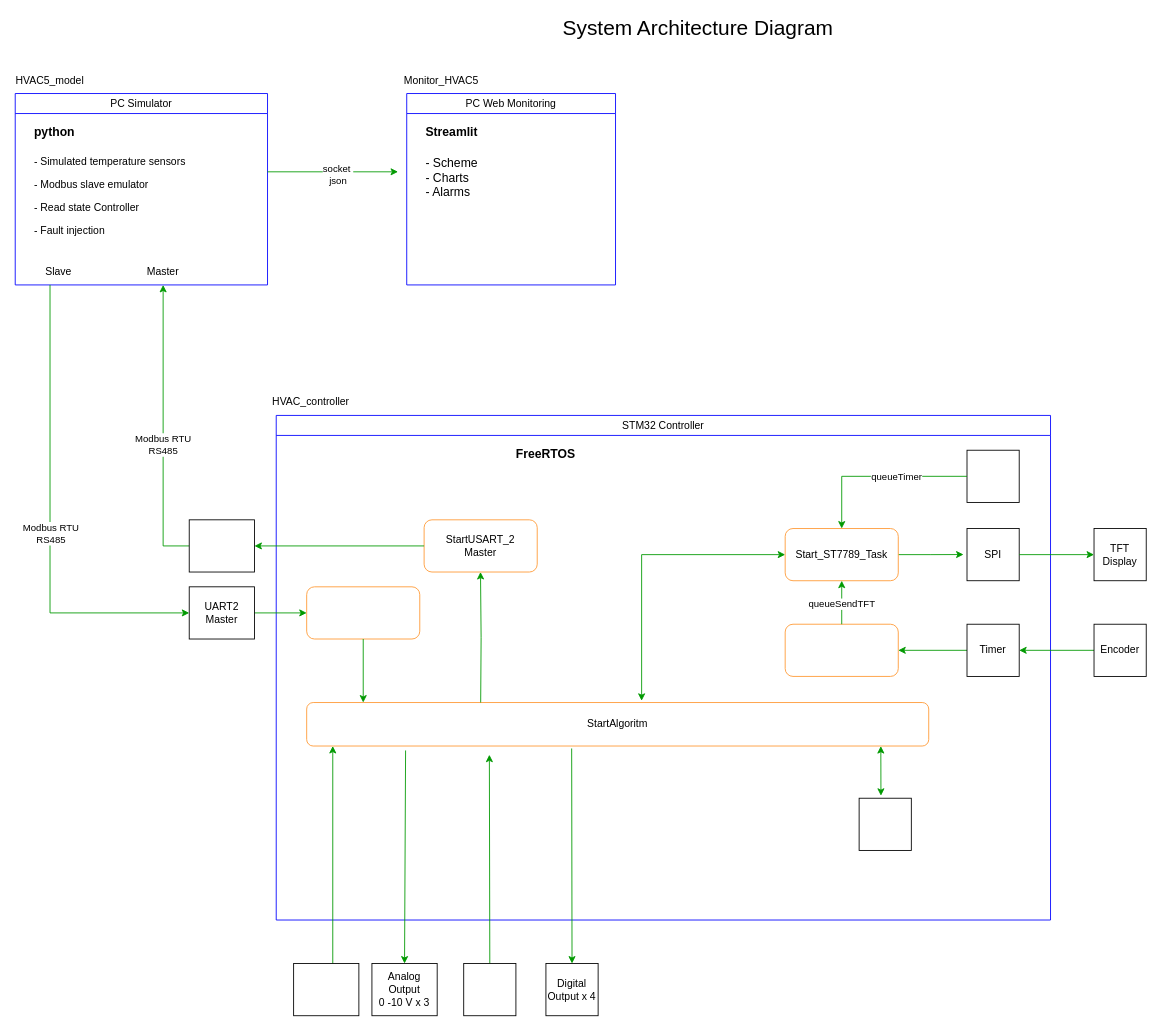
This 1161x1031 diagram has some shape labels left out. The shapes that lost their labels are listed below. From the top down, each one's centre as x and y in pixels, then its label:
point 992,475: RTC
point 221,545: UART1 Slave
point 363,612: StartUSART_1 Slave
point 841,649: Start_EC11
point 884,823: Flash
point 326,989: Analog Input 0 -10 V x 3
point 489,989: Digital Input x 4
